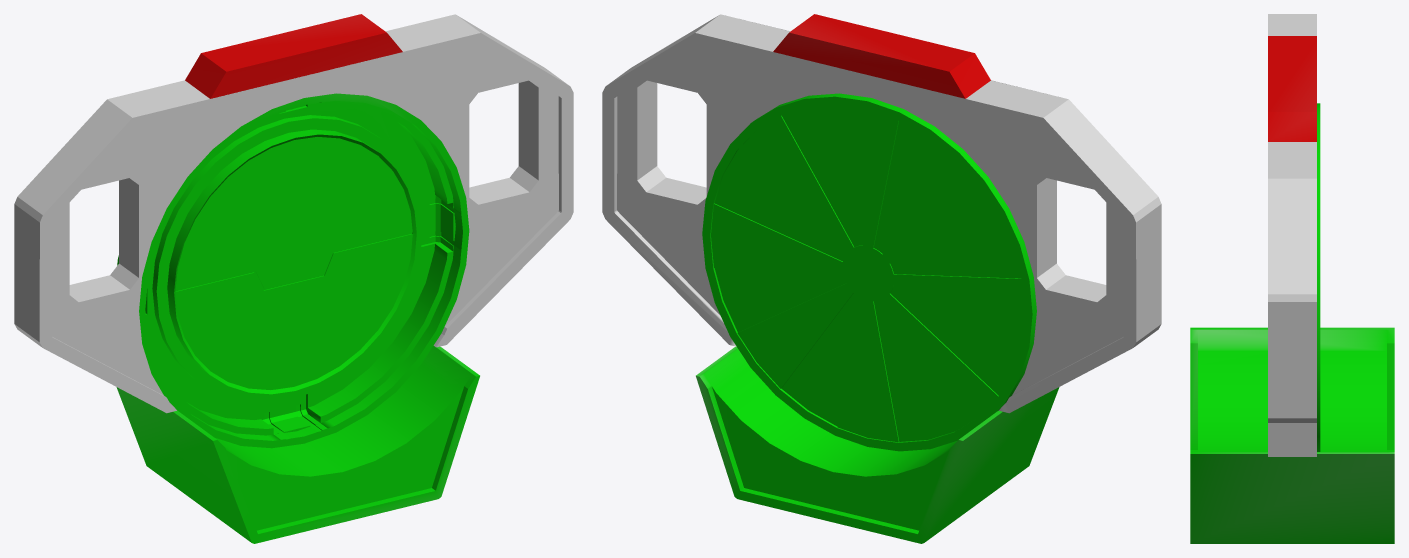
Rendered from KeepOnTruckin_inline_adapter.fbx.
3 renders of one model, left to right at view 1: azimuth 30°, elevation 25°; view 2: azimuth 150°, elevation 25°; view 3: azimuth 270°, elevation 25°, orthographic. The views are drawn at different scales.
Parts seen in each view (by area): view 1: Hatch Tube Short Fore, Main Body, Bottom Structure, Top Structure; view 2: Hatch Tube Short Aft, Main Body, Bottom Structure, Top Structure; view 3: Bottom Structure, Main Body, Top Structure, Hatch Tube Short Aft.
Part boxes in pixels (x1,y1,x2,y2): Hatch Tube Short Fore: [139, 93, 469, 448]; Main Body: [14, 14, 573, 413]; Bottom Structure: [116, 345, 479, 543]; Top Structure: [185, 14, 402, 98]; Hatch Tube Short Aft: [702, 93, 1036, 451]; Main Body: [602, 14, 1161, 413]; Bottom Structure: [696, 346, 1059, 543]; Top Structure: [773, 14, 990, 98]; Bottom Structure: [1190, 327, 1394, 543]; Main Body: [1268, 14, 1316, 456]; Top Structure: [1268, 36, 1316, 141]; Hatch Tube Short Aft: [1317, 103, 1320, 451].
Bounding box in the file's own units: 235 × 185 × 80.42.
